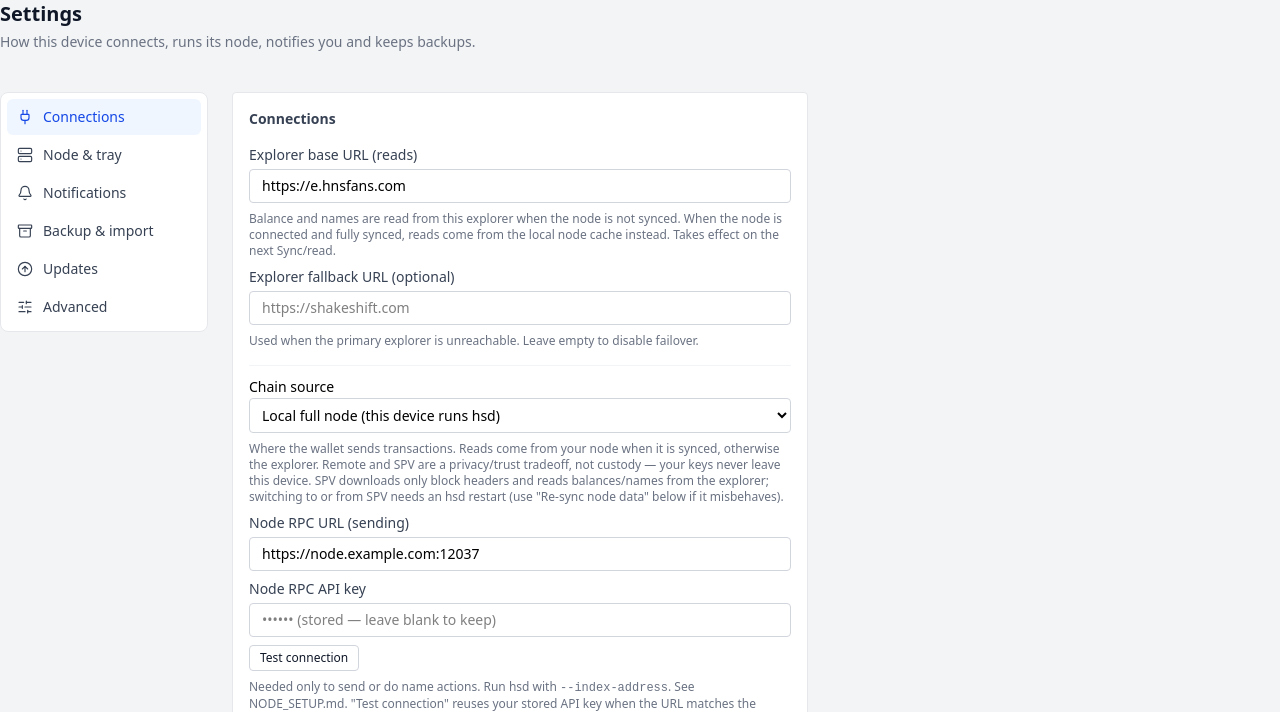
Scenario: Settings — Test connection › drops a successful result when the URL is edited
Click the button with test id "test-connection-button": (304, 658) 249,645 -> 359,671
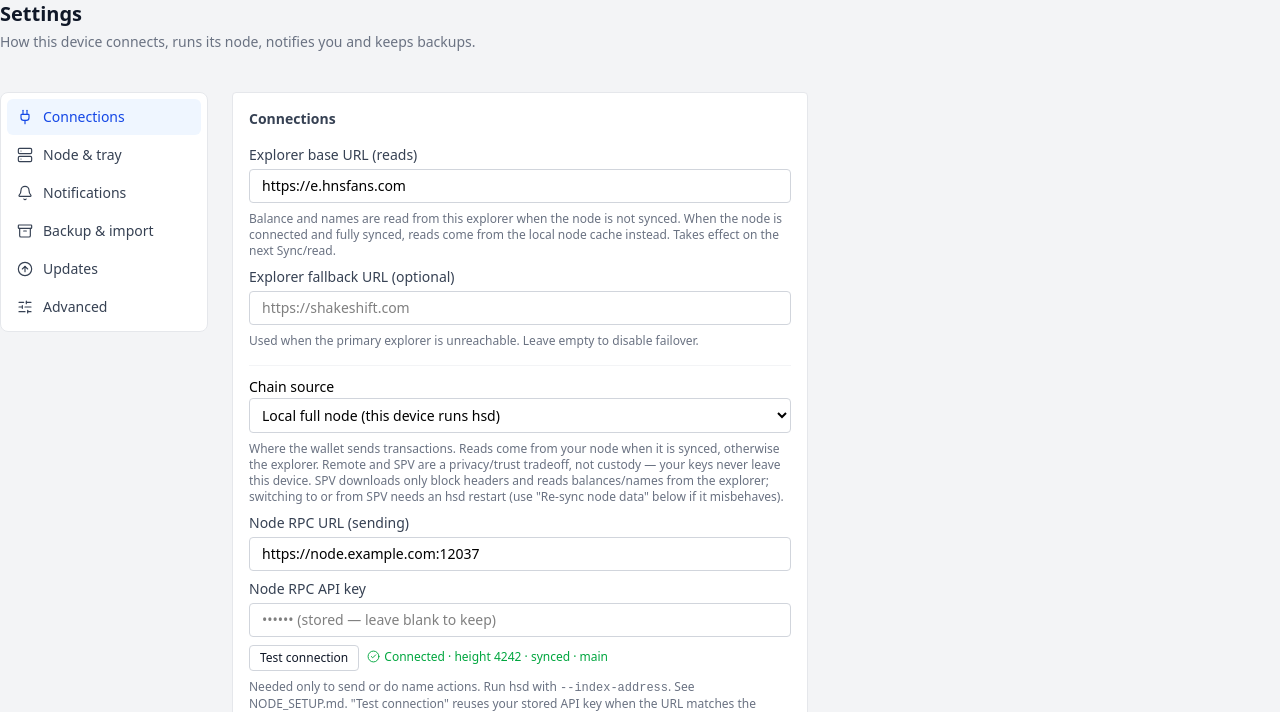
Expected: the element with test id "connection-success" is shown, 367,649 -> 608,667
Replace the text in the field labelled "Node RPC URL (sending)" with "https://other.example.com:12037": (520, 554) 249,537 -> 791,571
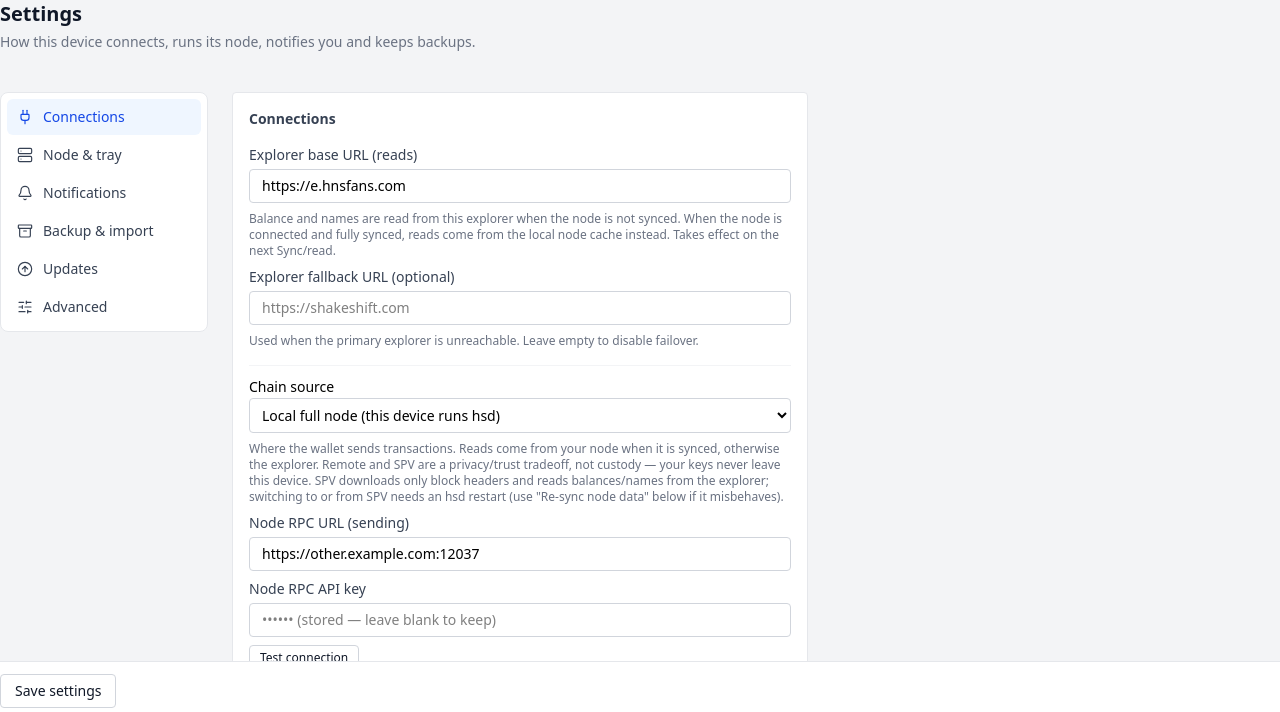
Expected: the element with test id "connection-success" is gone
